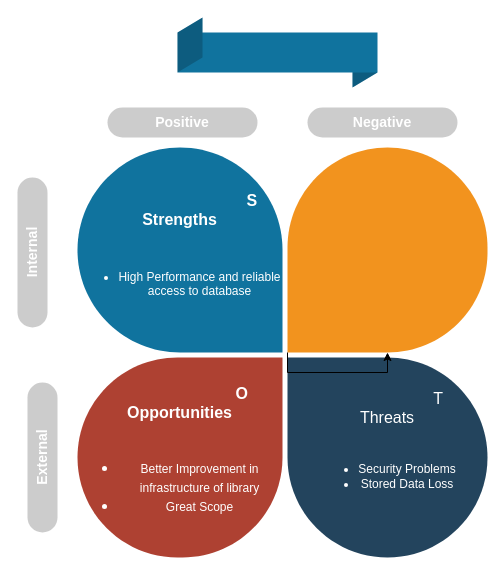
The diagram is 504 pixels wide and 574 high, and some of its shapes have lost their labels. The centre of each missing label's shape, as x and y in pixels:
SWOT Analysis: the point at 277,52
W Weakness Issued books data cannot be stored: the point at 387,249
